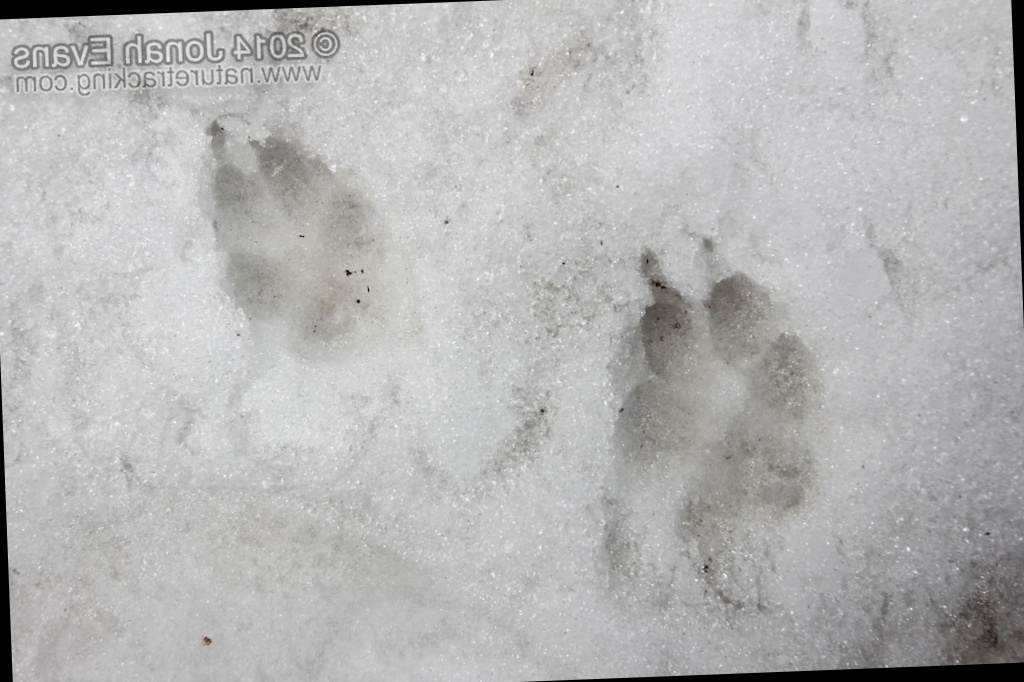coyote: (563, 219, 850, 575), (158, 88, 424, 387)
